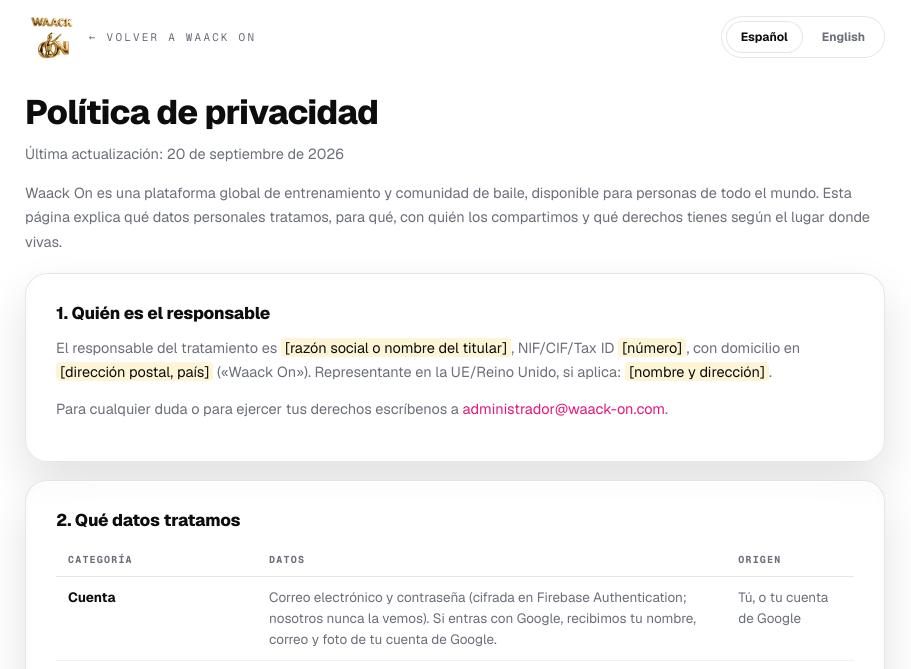
política de privacidad › cambia a inglés
Click the text "English" at [843, 37], box [822, 29, 865, 45]
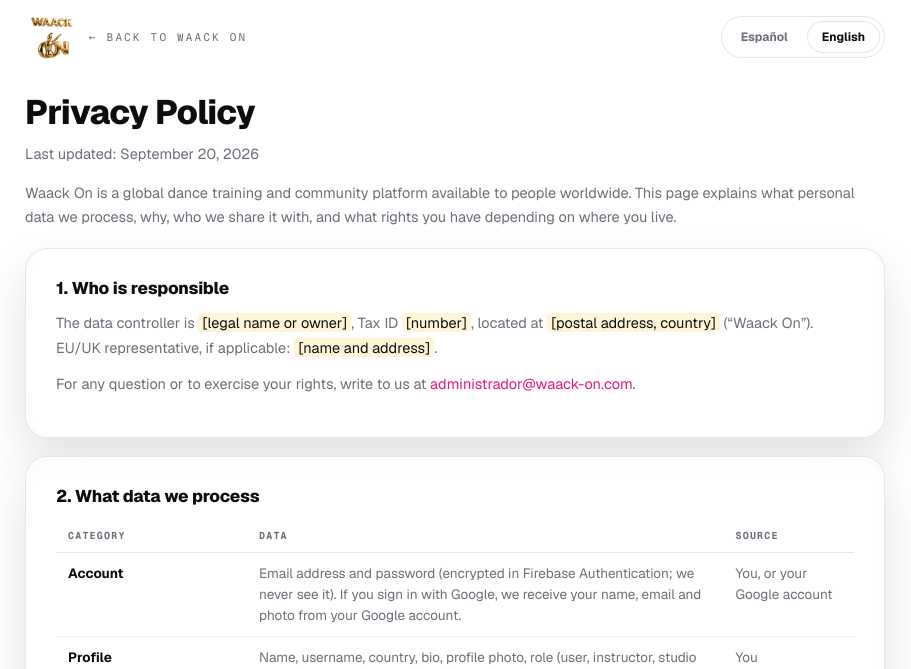
Expected: the heading "Privacy Policy" is shown, [25, 90, 255, 134]
